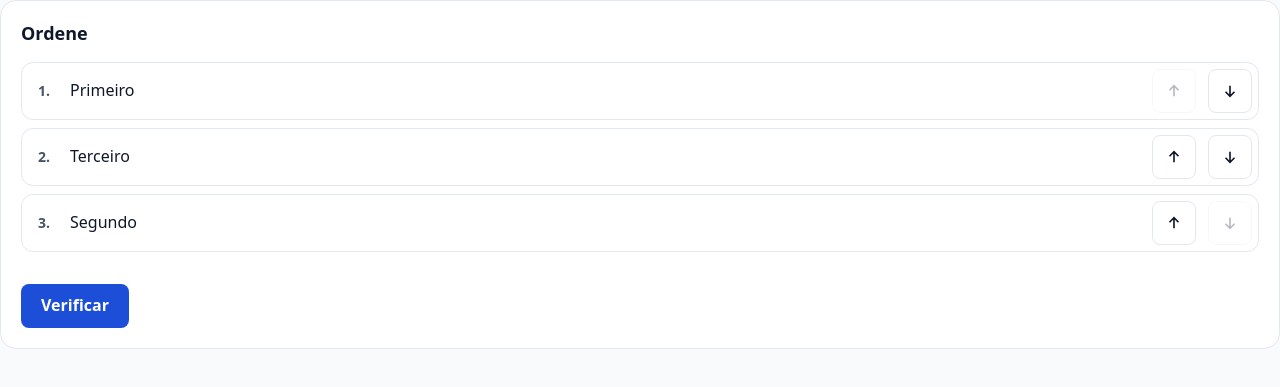
Test: QuestaoCard › ordenação funciona só com teclado (botões subir/descer)
Click the button named "Mover \"Terceiro\" para cima".
click(1174, 157)  # box x1=1152 y1=135 x2=1196 y2=179
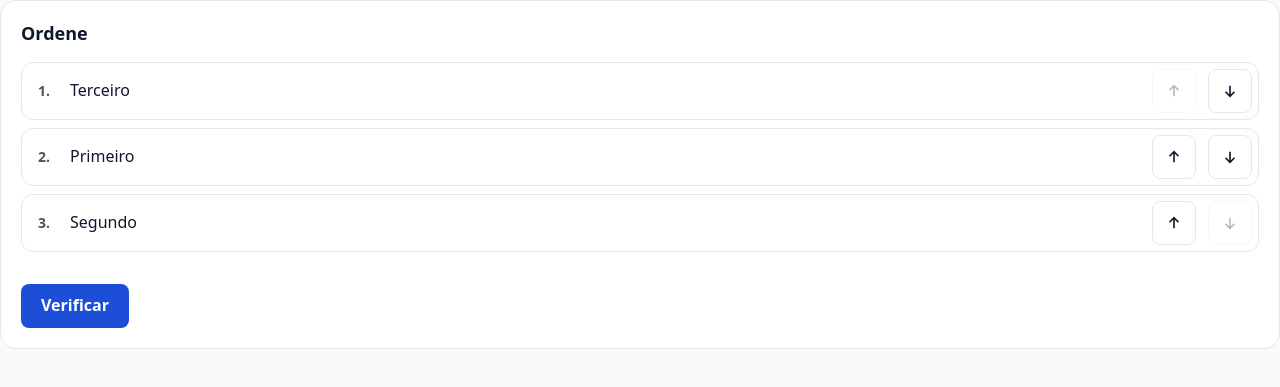
Click the button named "Mover \"Segundo\" para cima".
click(1174, 223)  # box x1=1152 y1=201 x2=1196 y2=245
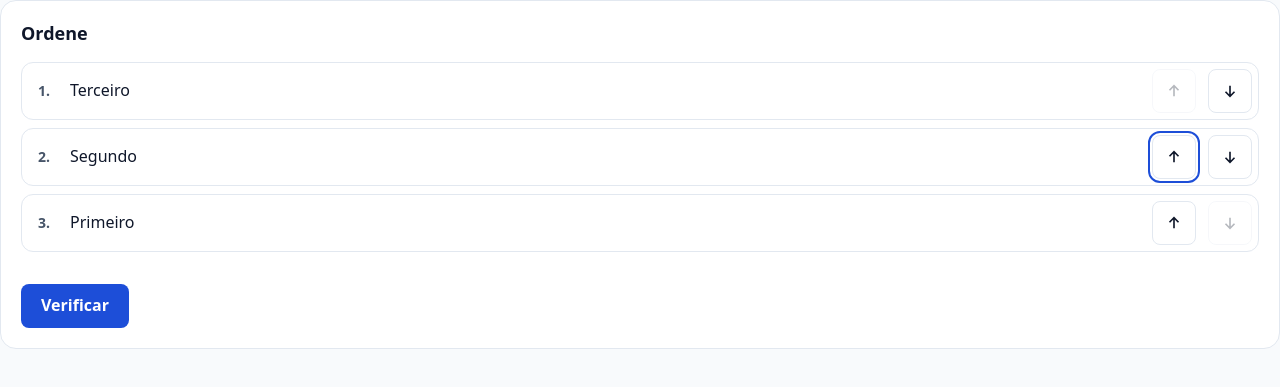
Click the button named "Mover \"Segundo\" para cima".
click(1174, 157)  # box x1=1152 y1=135 x2=1196 y2=179
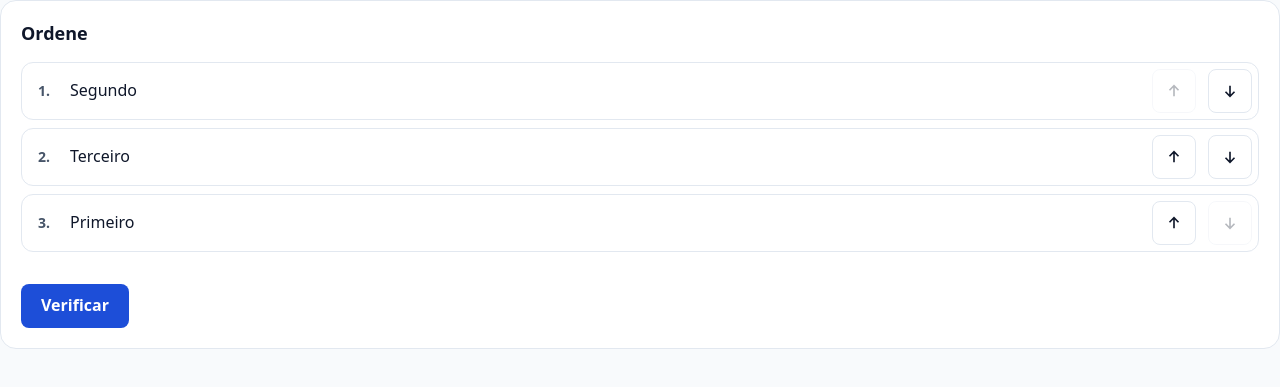
Click the button named "Mover \"Primeiro\" para cima".
click(1174, 223)  # box x1=1152 y1=201 x2=1196 y2=245
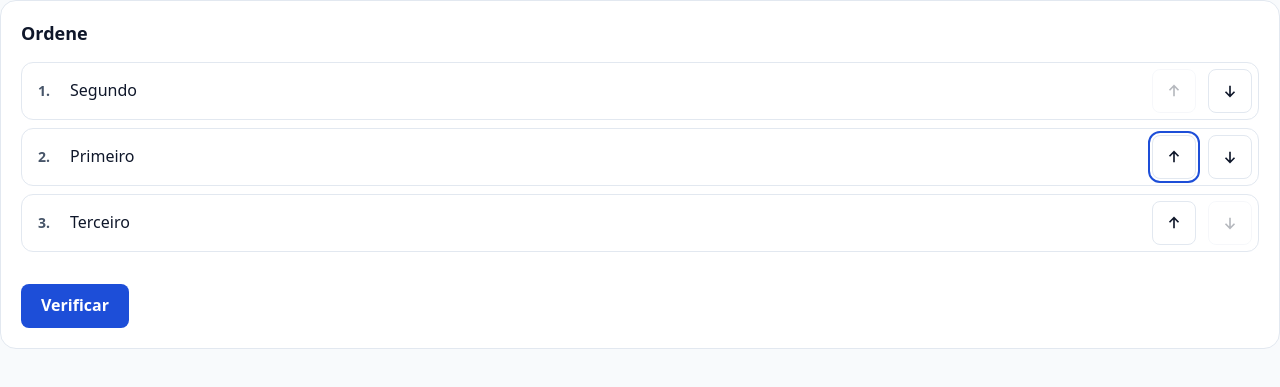
Click the button named "Mover \"Primeiro\" para cima".
click(1174, 157)  # box x1=1152 y1=135 x2=1196 y2=179
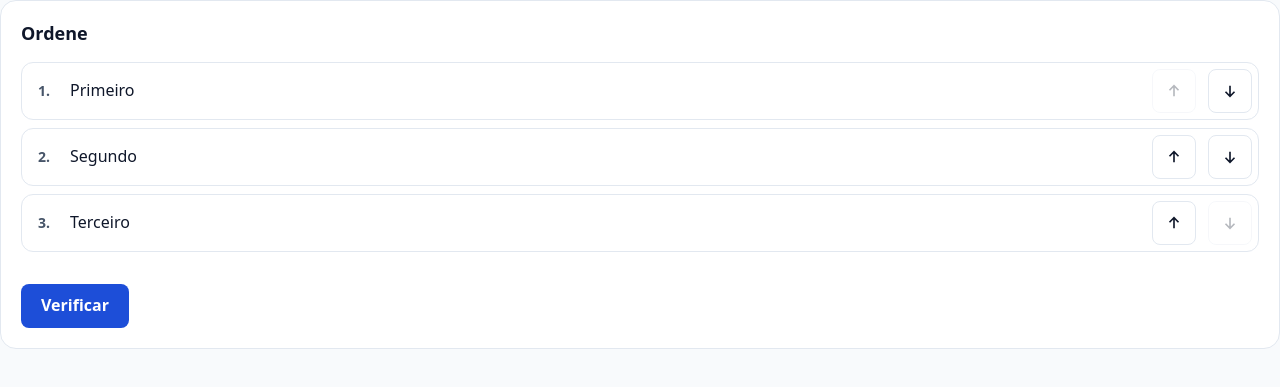
Click the button "Verificar".
click(75, 306)  # box x1=21 y1=284 x2=129 y2=328
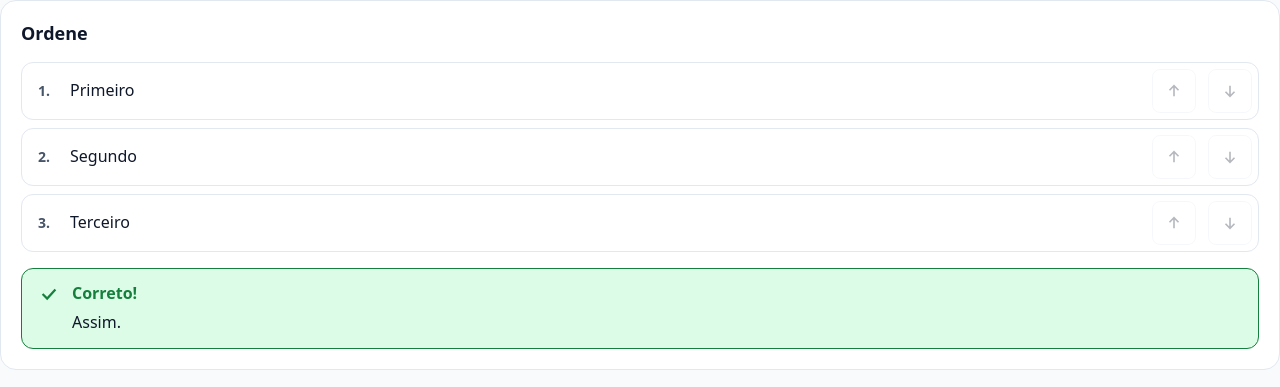
Check: the text "Correto!" is shown, box x1=72 y1=281 x2=137 y2=306
